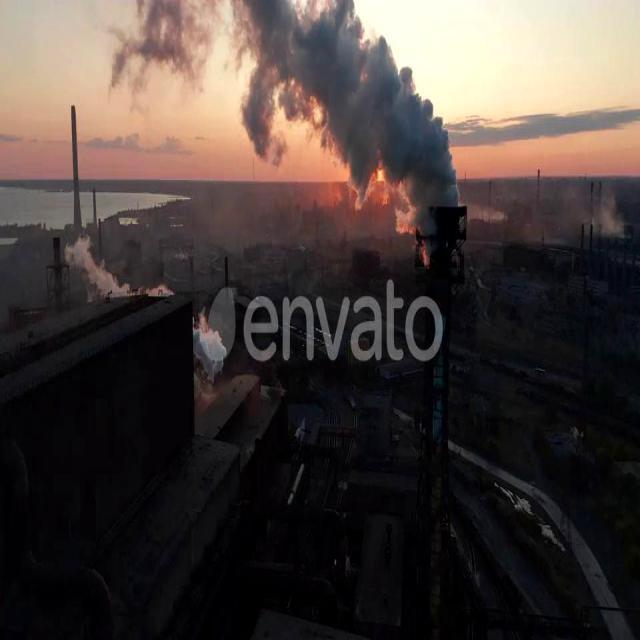Smoke: (220, 0, 464, 220), (101, 0, 237, 107)
